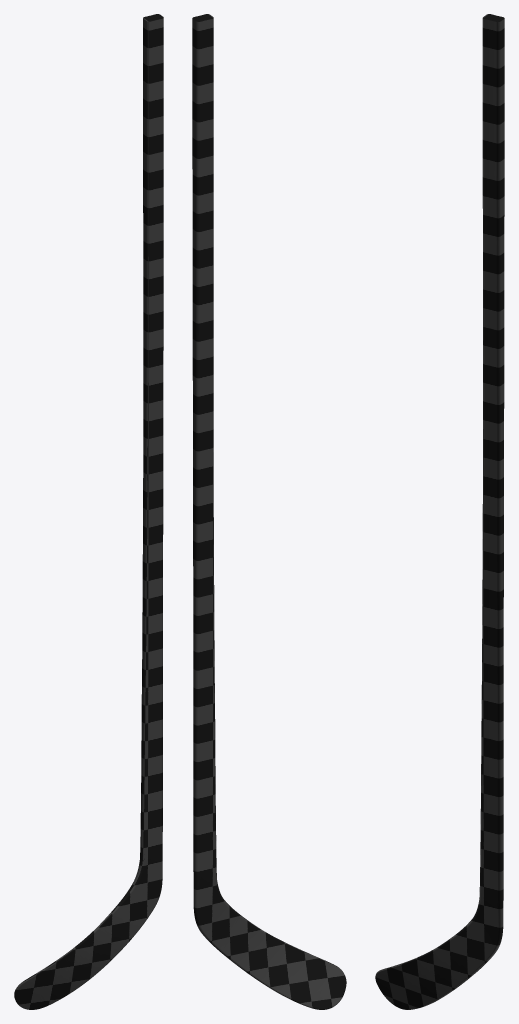
The model's file is P11-SBT.glb.
3 views of the same model, side by side, from view 1: azimuth 30°, elevation 25°; view 2: azimuth 210°, elevation 25°; view 3: azimuth 330°, elevation 25° (orthographic). The views are drawn at different scales.
Parts seen in each view (by area): view 1: geometry_0; view 2: geometry_0; view 3: geometry_0.
Boxes of the visible parts, x1,y1,x2,y2 form: geometry_0: (14,14,163,1009); geometry_0: (192,14,346,1009); geometry_0: (375,14,504,1009).
Size of the model in its own units: 237 by 1650 by 59.97.
Materials: 1 (1 with a texture image).
